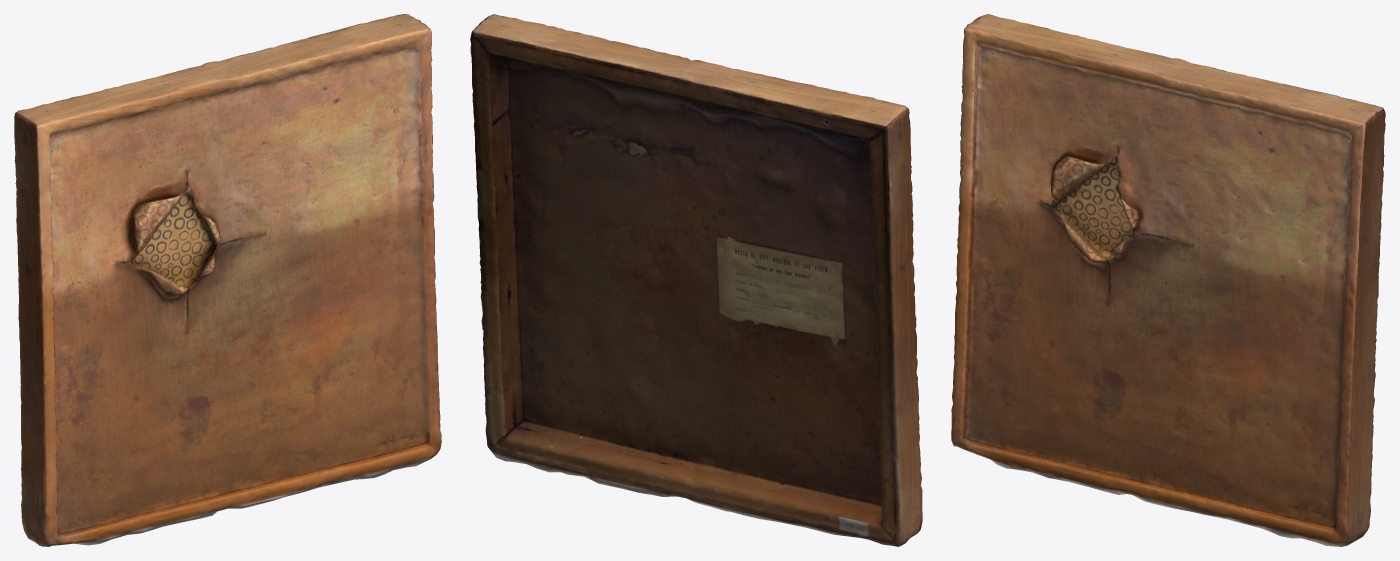
The picture shows the model from 3 angles, left to right: view 1: azimuth 30°, elevation 25°; view 2: azimuth 150°, elevation 25°; view 3: azimuth 330°, elevation 25°; orthographic projection. The views are drawn at different scales.
Parts seen in each view (by area): view 1: 3DModel; view 2: 3DModel; view 3: 3DModel.
Part boxes in pixels (x1=…): 3DModel: x1=14, y1=14, x2=441, y2=546; 3DModel: x1=470, y1=14, x2=922, y2=546; 3DModel: x1=951, y1=14, x2=1385, y2=546.
Bounding box in the file's own units: 0.4126 × 0.4204 × 0.0711.
1 material, 1 textured.
